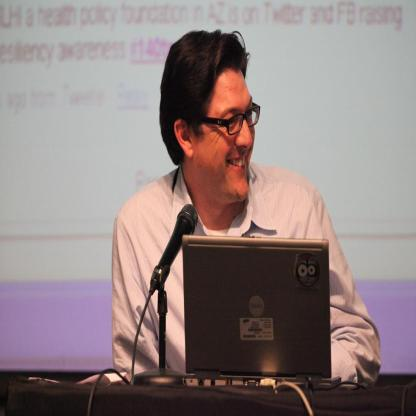board: (180, 236, 342, 379)
